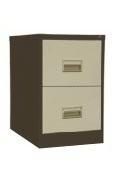cabinet_door: (41, 88, 102, 133), (42, 40, 102, 85)
handle: (63, 61, 83, 73), (62, 109, 81, 119)
